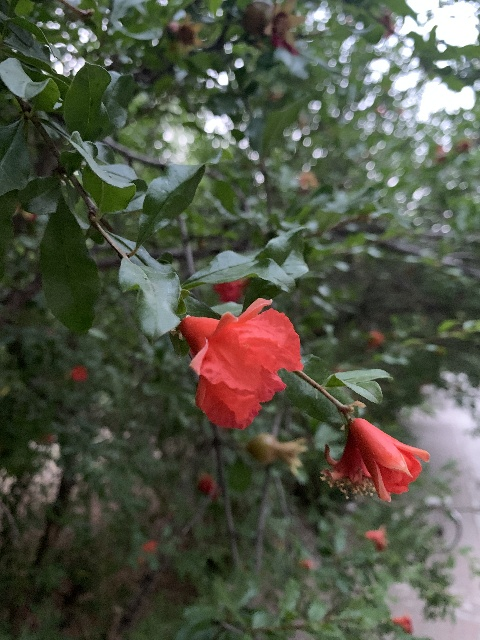early-fruit: (243, 0, 304, 55), (247, 432, 307, 478)
flower: (178, 297, 302, 430), (349, 418, 430, 502), (213, 278, 249, 303), (365, 525, 388, 551), (392, 613, 413, 633)
